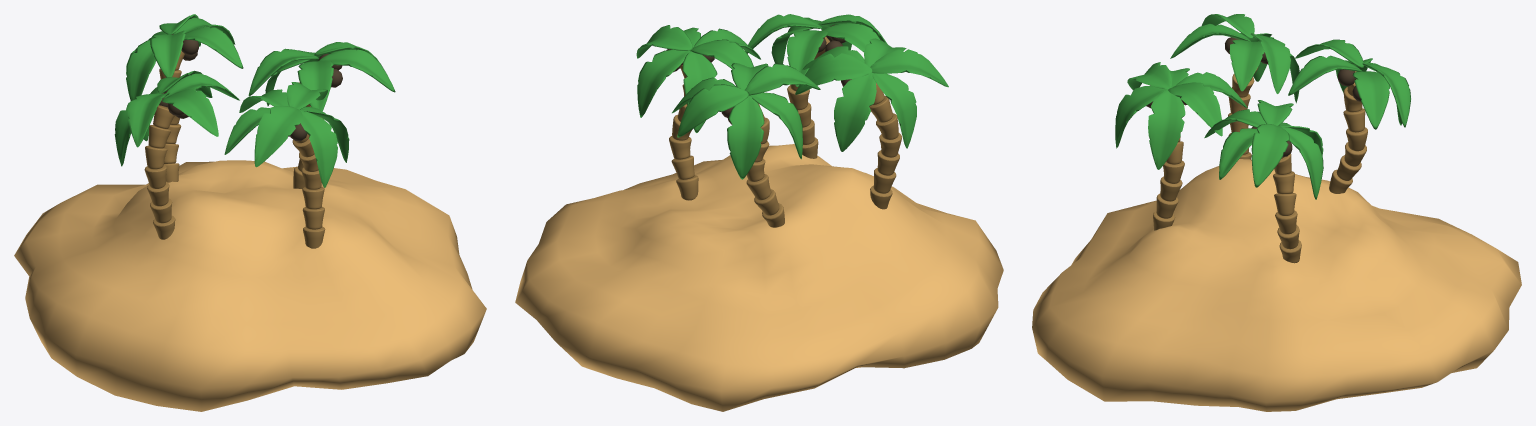
File: island_with_palms_2.fbx
3 views of the same model, side by side, from view 1: azimuth 30°, elevation 25°; view 2: azimuth 150°, elevation 25°; view 3: azimuth 270°, elevation 25° (orthographic). The views are drawn at different scales.
Parts seen in each view (by area): view 1: Circle, palm1, palm1.001, pakm3, palm2; view 2: Circle, palm1.001, pakm3, palm2, palm1; view 3: Circle, palm1, palm2, pakm3, palm1.001.
Boxes of the visible parts, x1,y1,x2,y2 form: Circle: (14, 160, 486, 411); palm1: (224, 82, 349, 248); palm1.001: (114, 70, 239, 239); pakm3: (126, 14, 243, 182); palm2: (248, 42, 395, 188); Circle: (515, 144, 1003, 411); palm1.001: (795, 38, 948, 209); pakm3: (672, 63, 820, 227); palm2: (636, 25, 760, 200); palm1: (746, 14, 887, 158); Circle: (1032, 159, 1521, 411); palm1: (1115, 62, 1247, 230); palm2: (1204, 100, 1323, 263); pakm3: (1288, 39, 1410, 193); palm1.001: (1170, 14, 1299, 159).
Size of the model in its own units: 488 by 319 by 501.
